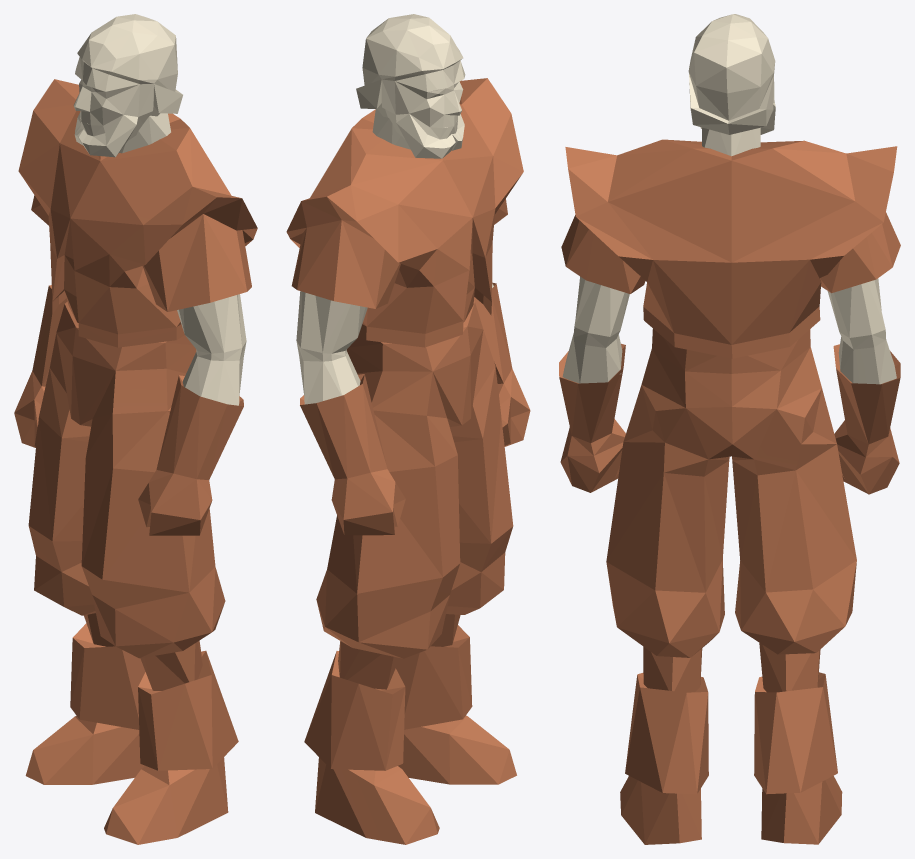
Rendered from Human_Dummy.fbx.
3 views of the same model, side by side, from view 1: azimuth 30°, elevation 25°; view 2: azimuth 150°, elevation 25°; view 3: azimuth 270°, elevation 25° (orthographic). The views are drawn at different scales.
Parts seen in each view (by area): view 1: FigurVergleich; view 2: FigurVergleich; view 3: FigurVergleich.
Part boxes in pixels (x1,y1,x2,y2): FigurVergleich: (14,14,257,844); FigurVergleich: (286,14,530,844); FigurVergleich: (559,14,900,844).
Size of the model in its own units: 34.86 by 183 by 71.35.
